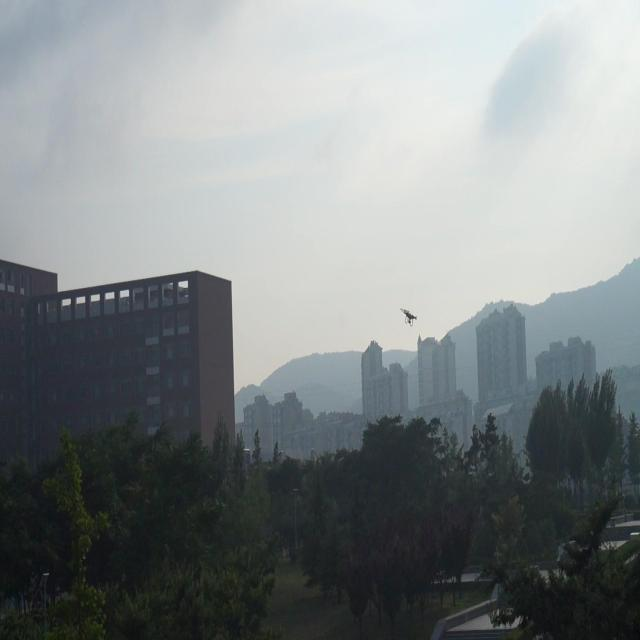drone: (398, 304, 419, 329)
